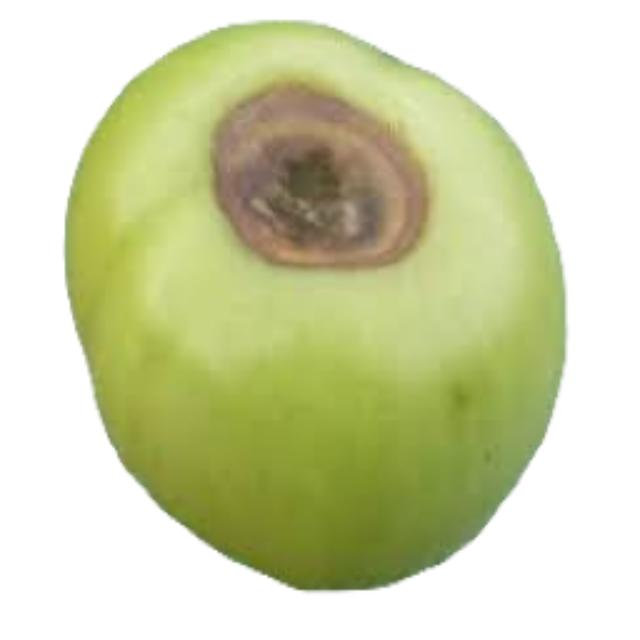defect: (58, 12, 569, 595)
